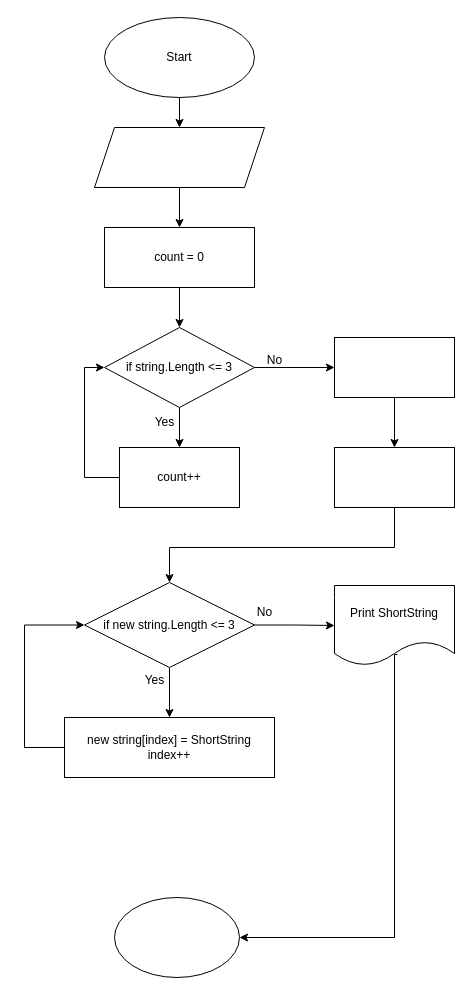
The diagram is 472 pixels wide and 995 high, and some of its shapes have lost their labels. The centre of each missing label's shape, as x and y in pixels:
"Finish" belongs at point (177, 937).
"index = 0" belongs at point (394, 477).
"input string array" belongs at point (179, 157).
"new string array[count]" belongs at point (394, 367).
